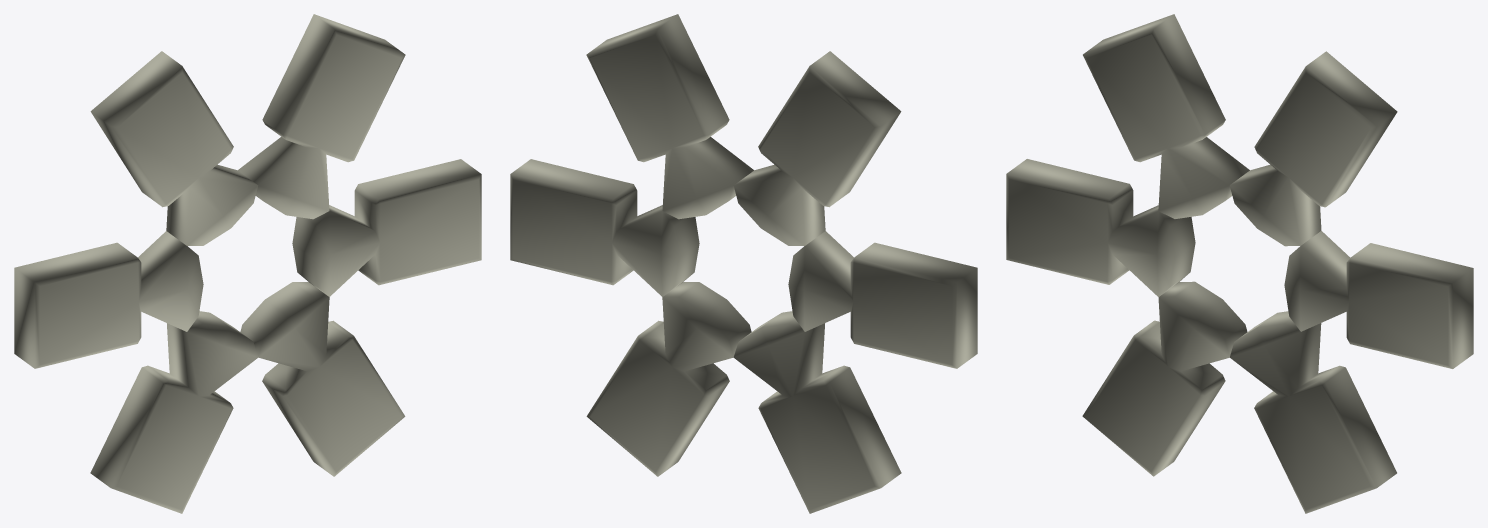
Rendered from icon.ico.obj.
3 views of the same model, side by side, from view 1: azimuth 30°, elevation 25°; view 2: azimuth 150°, elevation 25°; view 3: azimuth 330°, elevation 25° (orthographic).
Size of the model in its own units: 4.18 by 4 by 0.3696.
